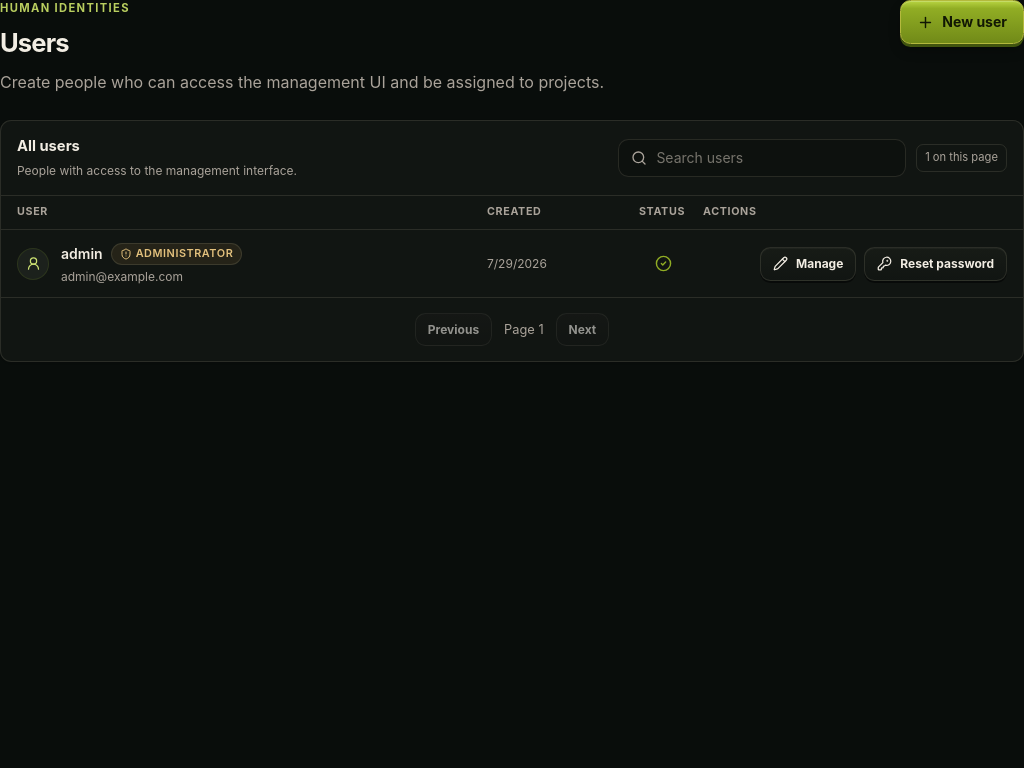
UsersPage › disables the action for the signed-in administrator account
The image size is (1024, 768).
Click the button with aria-label "Manage user admin". click: (808, 264)
box: left=760, top=247, right=856, bottom=281
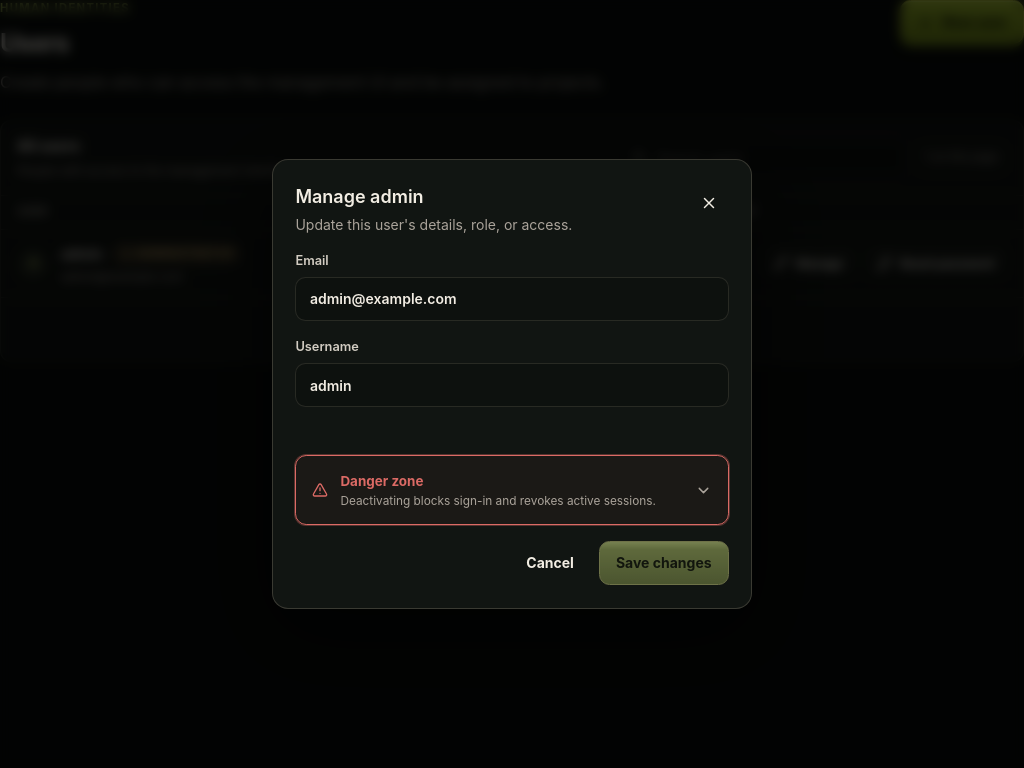
Click the button with class "danger-zone-trigger". click: (382, 481)
box: left=296, top=456, right=728, bottom=524
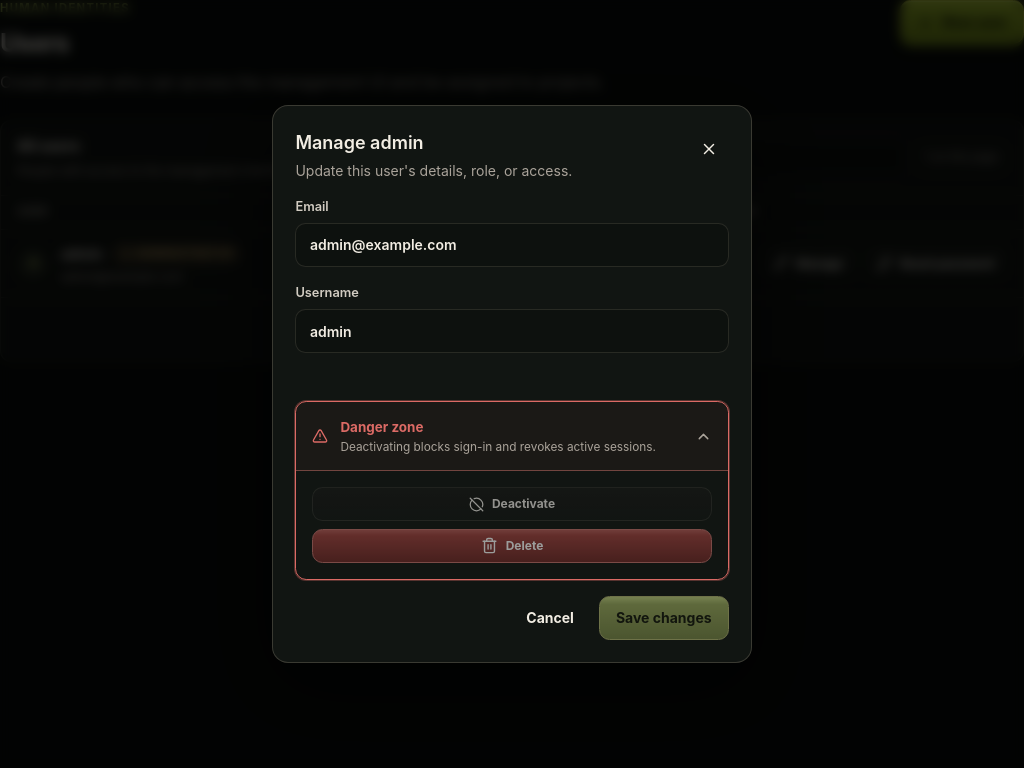
Now the button with aria-label "Disable user admin" is disabled, box left=312, top=529, right=712, bottom=562
